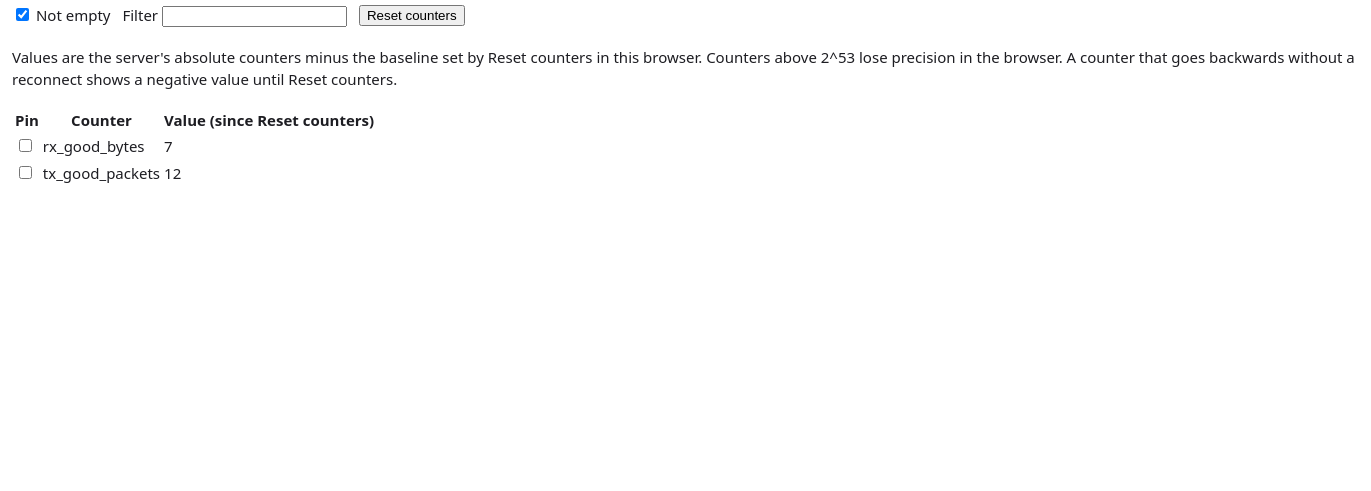
Test: XstatsTab › a pinned row bypasses both filters and updates
Click the checkbox labelled "Not empty": (22, 14) [16, 8, 29, 21]
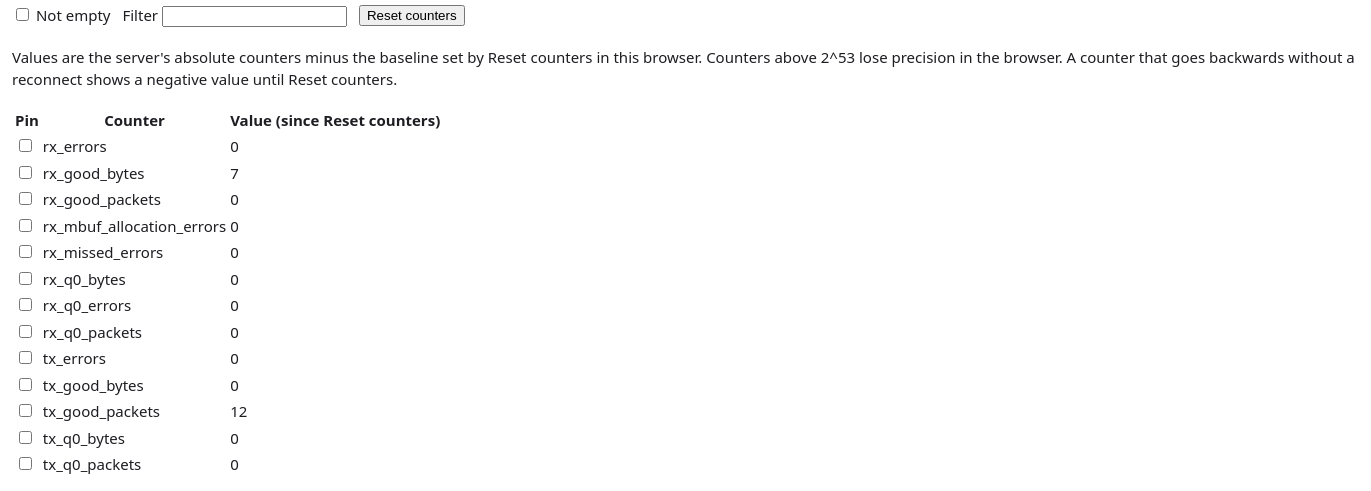
Click the checkbox named "Pin rx_errors": (26, 146) [19, 139, 32, 152]
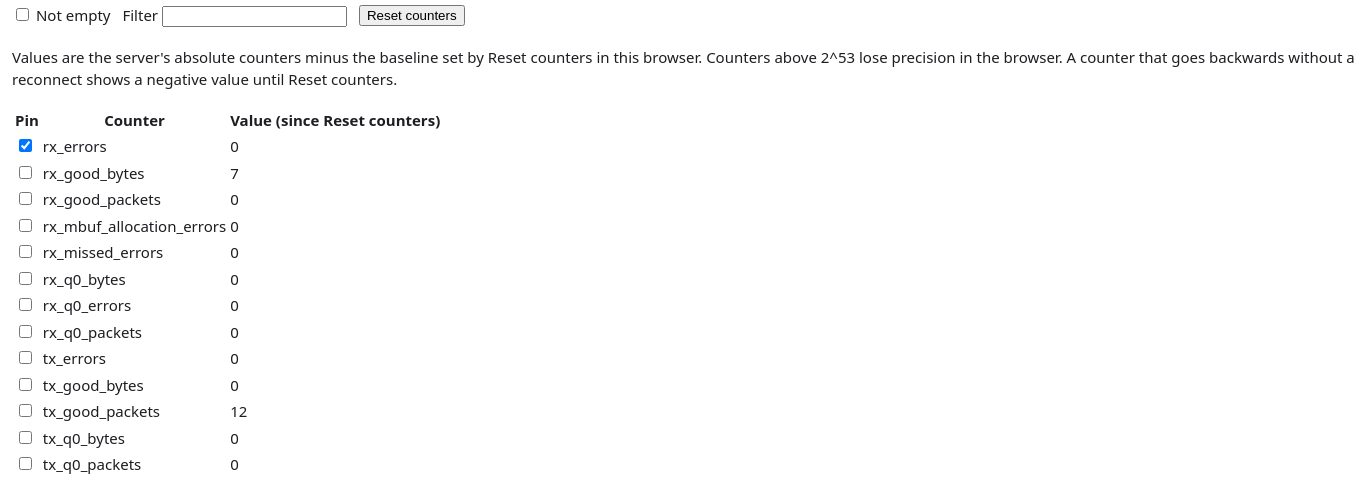
Click the checkbox labelled "Not empty": (22, 14) [16, 8, 29, 21]
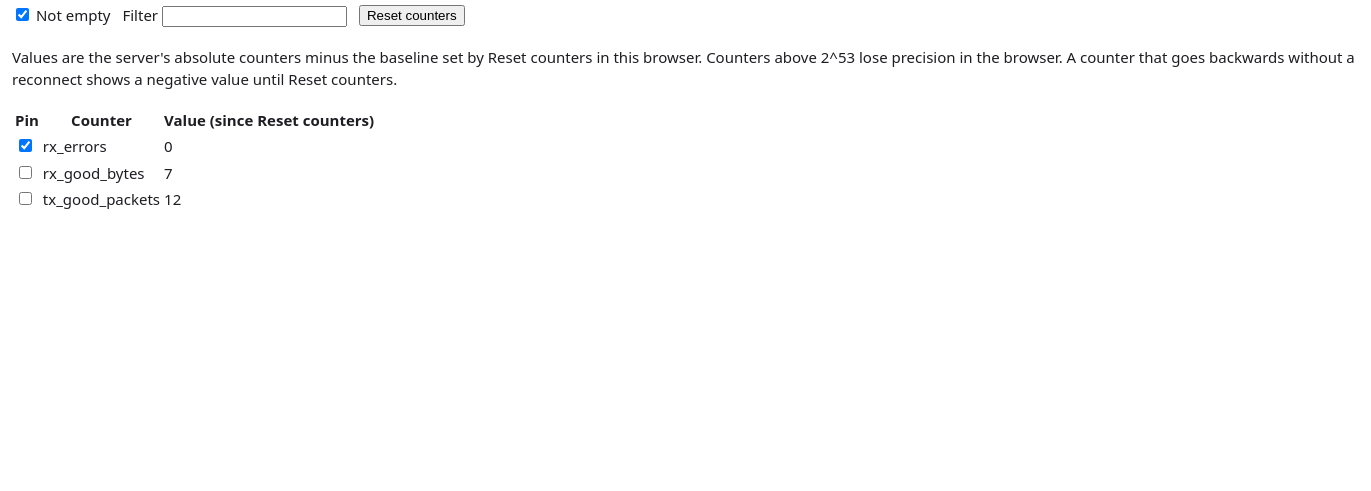
In the field labelled "Filter": (254, 16) [162, 6, 347, 27], type "tx_good"
Wait 500 ms
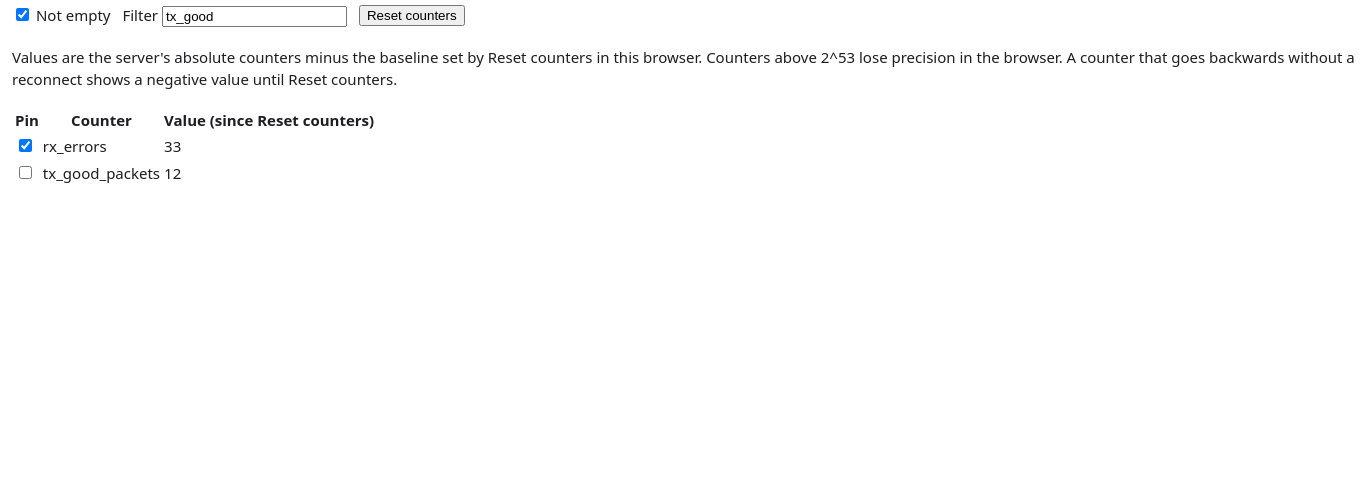
Expected: the cell "rx_errors" is shown, [42, 134, 161, 158]
Expected: the cell "33" is shown, [163, 134, 375, 158]
